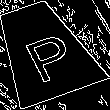P_NW: (12, 21, 76, 81)
